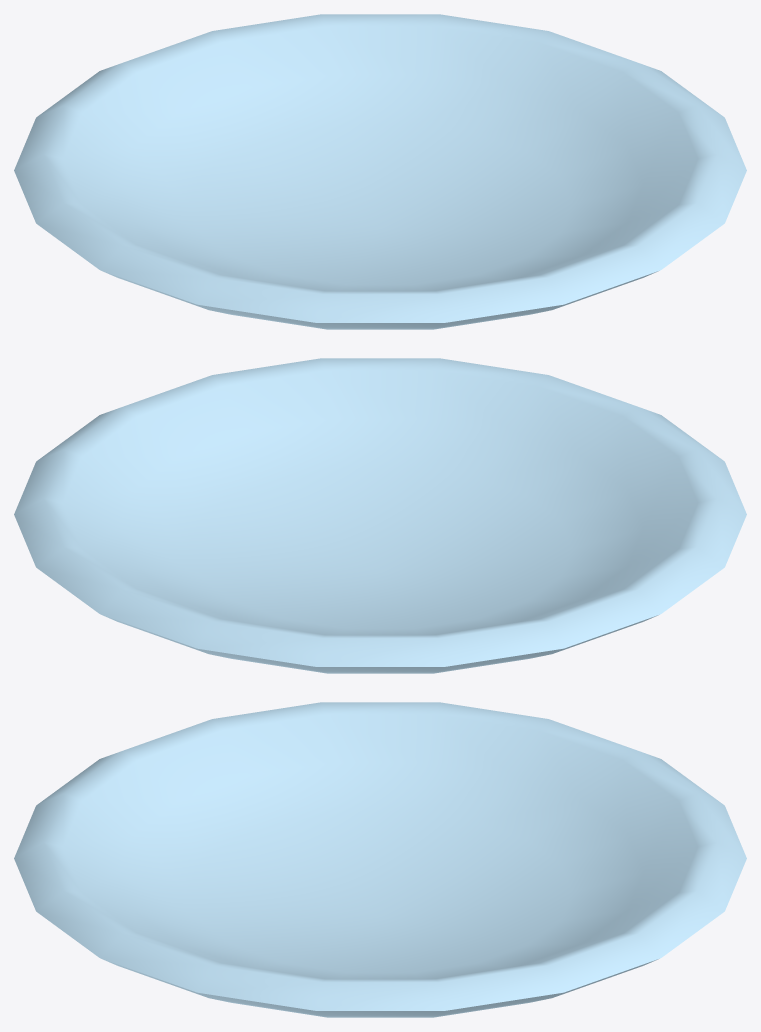
The model's file is plate.glb.
3 renders of one model, top to bottom at view 1: azimuth 30°, elevation 25°; view 2: azimuth 150°, elevation 25°; view 3: azimuth 270°, elevation 25°, orthographic.
Visible parts, largest first — view 1: Environment_Plate; view 2: Environment_Plate; view 3: Environment_Plate.
Boxes of the visible parts, bbox=[...] form: Environment_Plate: bbox=[14, 14, 746, 329]; Environment_Plate: bbox=[14, 358, 746, 673]; Environment_Plate: bbox=[14, 702, 746, 1017].
Bounding box in the file's own units: 1 × 0.1479 × 1.02.
Materials: 1 (1 with a texture image).
